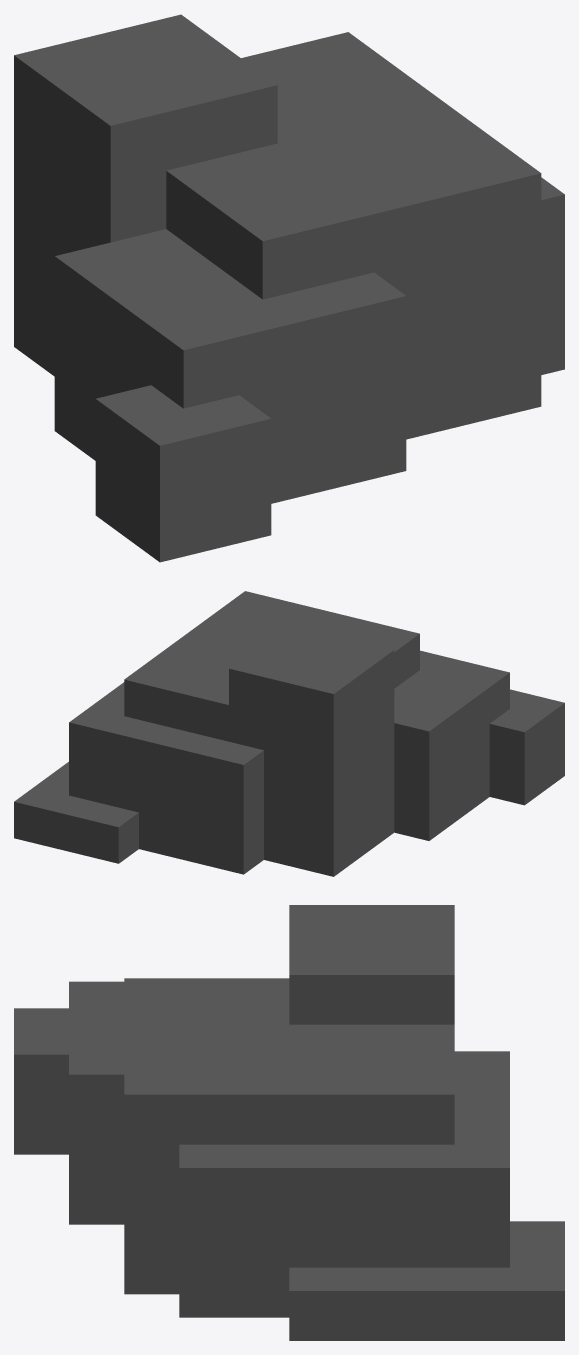
Rendered from foliage_rock_b.glb.
3 views of the same model, one above another, from view 1: azimuth 30°, elevation 25°; view 2: azimuth 150°, elevation 25°; view 3: azimuth 270°, elevation 25° (orthographic). The views are drawn at different scales.
Parts seen in each view (by area): view 1: foliage_rock_b; view 2: foliage_rock_b; view 3: foliage_rock_b.
Boxes of the visible parts, x1,y1,x2,y2 form: foliage_rock_b: [14, 14, 564, 562]; foliage_rock_b: [14, 591, 564, 876]; foliage_rock_b: [14, 905, 564, 1340].
Size of the model in its own units: 2 by 1 by 2.
1 material, 1 textured.
